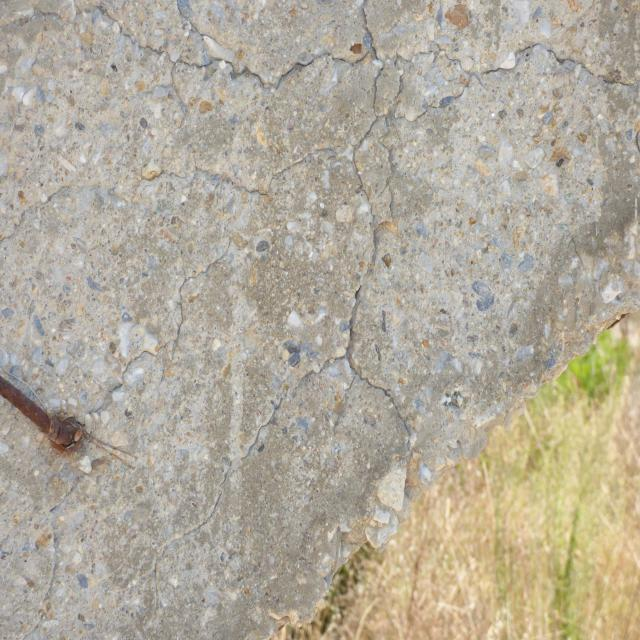corrosion: (0, 337, 97, 488)
